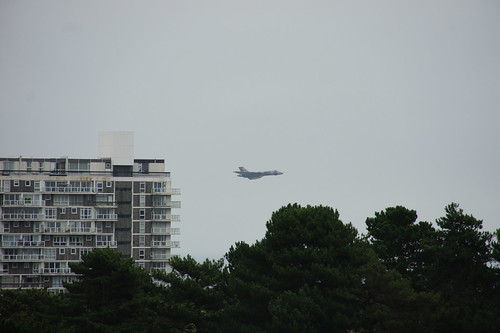building: (1, 148, 182, 288)
plane: (232, 153, 290, 188)
sky: (1, 1, 496, 213)
vegetation: (1, 215, 493, 333)
